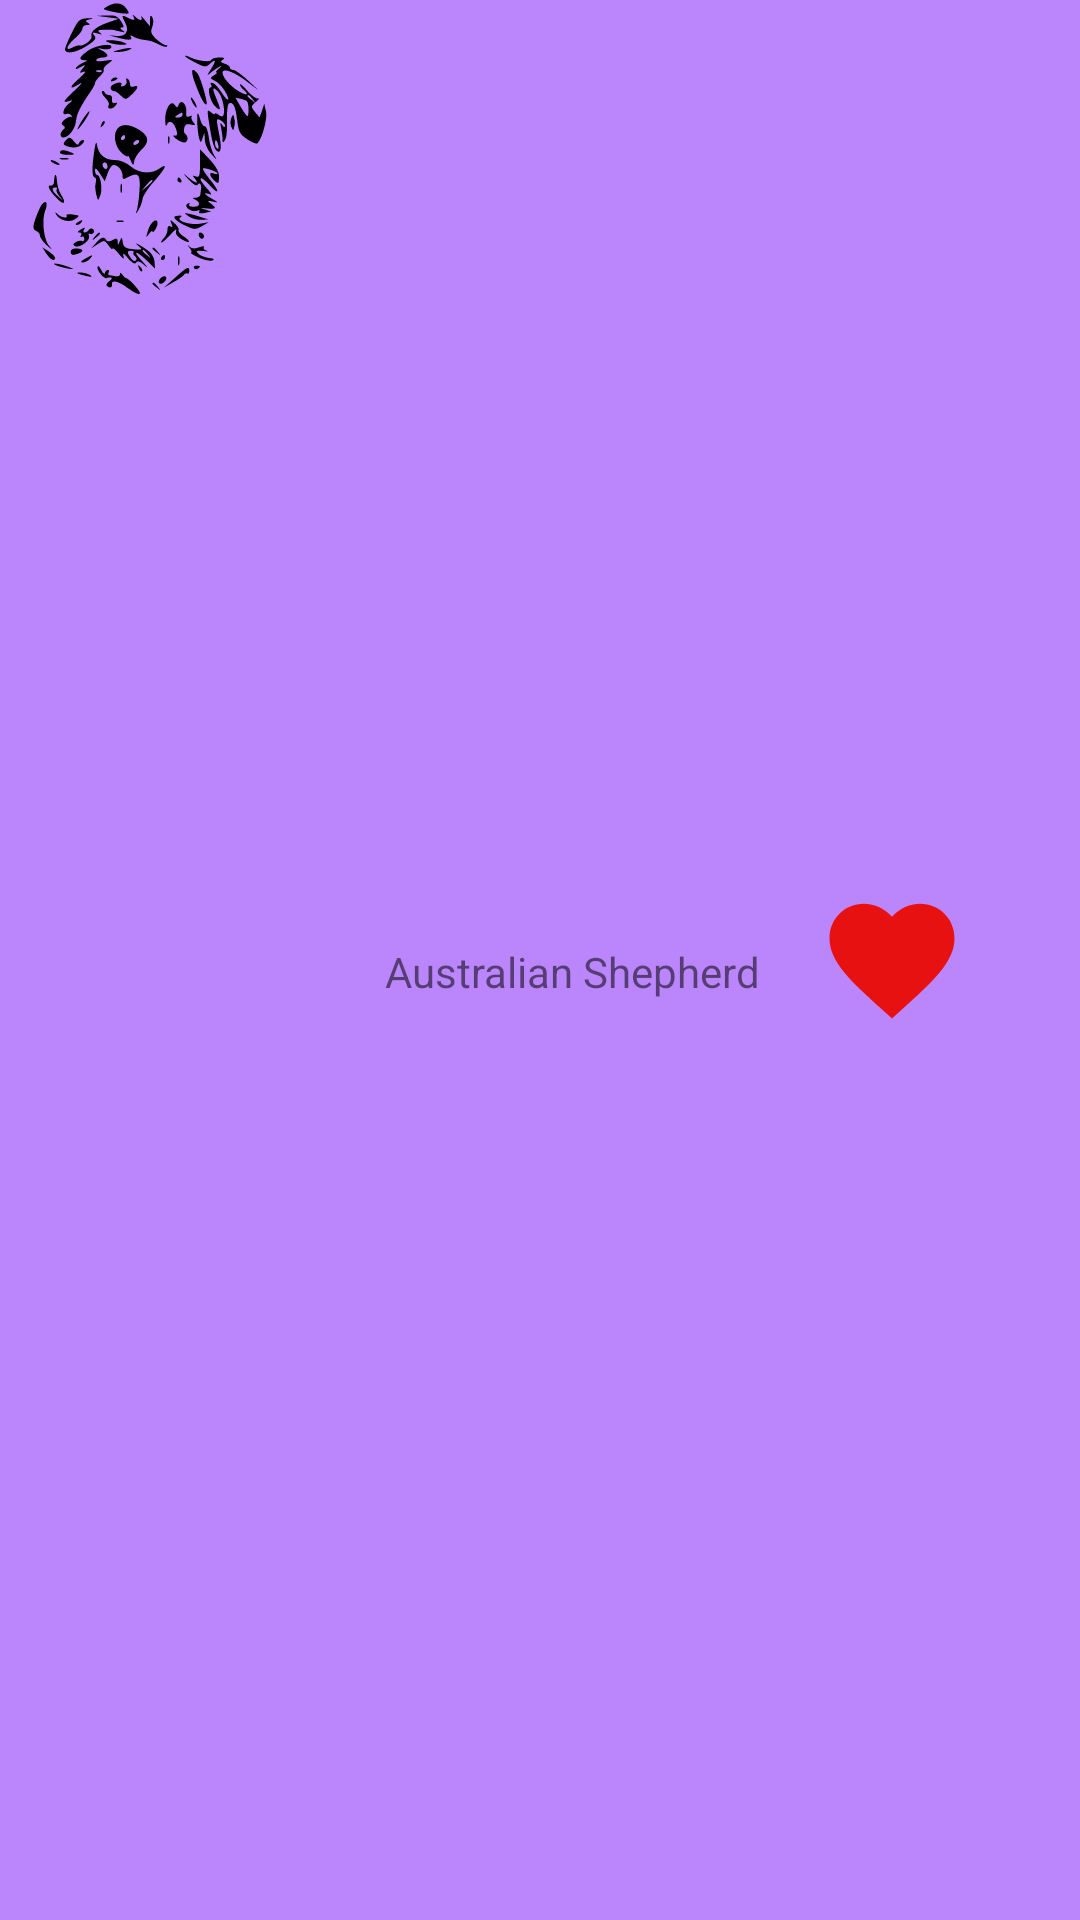

Where to tap for icons on this 1080 × 1920 app screen, as (x=x, y=y):
australian shepherd: (x=150, y=148)
favorite: (x=892, y=961)
